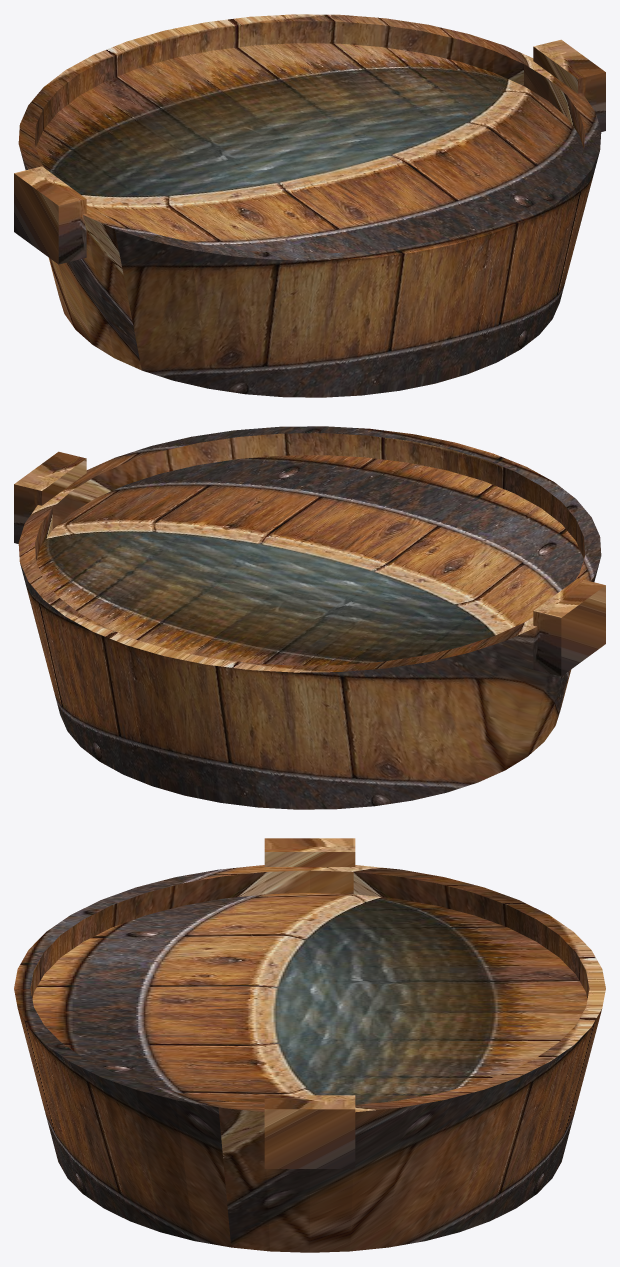
Rendered from v3-kitchen-wash-tub.glb.
The picture shows the model from 3 angles, top to bottom: view 1: azimuth 30°, elevation 25°; view 2: azimuth 150°, elevation 25°; view 3: azimuth 270°, elevation 25°; orthographic projection.
Parts seen in each view (by area): view 1: v3-kitchen-wash-tub; view 2: v3-kitchen-wash-tub; view 3: v3-kitchen-wash-tub.
Boxes of the visible parts, <box> form: v3-kitchen-wash-tub: <box>14,14,605,397</box>; v3-kitchen-wash-tub: <box>14,426,605,809</box>; v3-kitchen-wash-tub: <box>14,838,605,1252</box>.
Size of the model in its own units: 1.56 by 0.46 by 1.44.
Materials: 1 (1 with a texture image).
